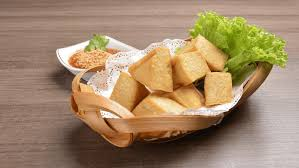Tahu goreng: (128, 47, 177, 96), (171, 50, 211, 89), (185, 34, 228, 69), (110, 71, 147, 111), (133, 92, 182, 116), (205, 71, 234, 106)
